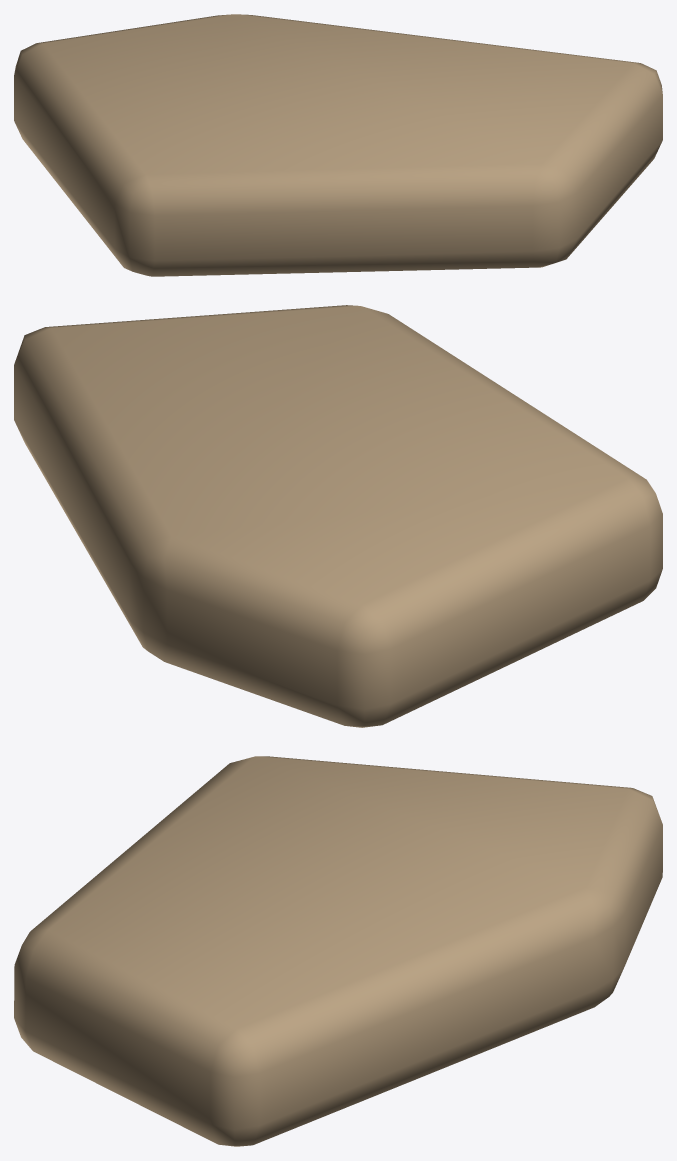
File: RUBBEL_SCHERBE_3.glb
3 renders of one model, top to bottom at view 1: azimuth 30°, elevation 25°; view 2: azimuth 150°, elevation 25°; view 3: azimuth 270°, elevation 25°, orthographic. The views are drawn at different scales.
Parts seen in each view (by area): view 1: RUBBEL_SCHERBE_3; view 2: RUBBEL_SCHERBE_3; view 3: RUBBEL_SCHERBE_3.
Part boxes in pixels (left/top/right/bottom): RUBBEL_SCHERBE_3: left=14, top=14, right=662, bottom=276; RUBBEL_SCHERBE_3: left=14, top=305, right=662, bottom=727; RUBBEL_SCHERBE_3: left=14, top=756, right=662, bottom=1146.
Size of the model in its own units: 0.9927 by 0.1848 by 0.9003.
